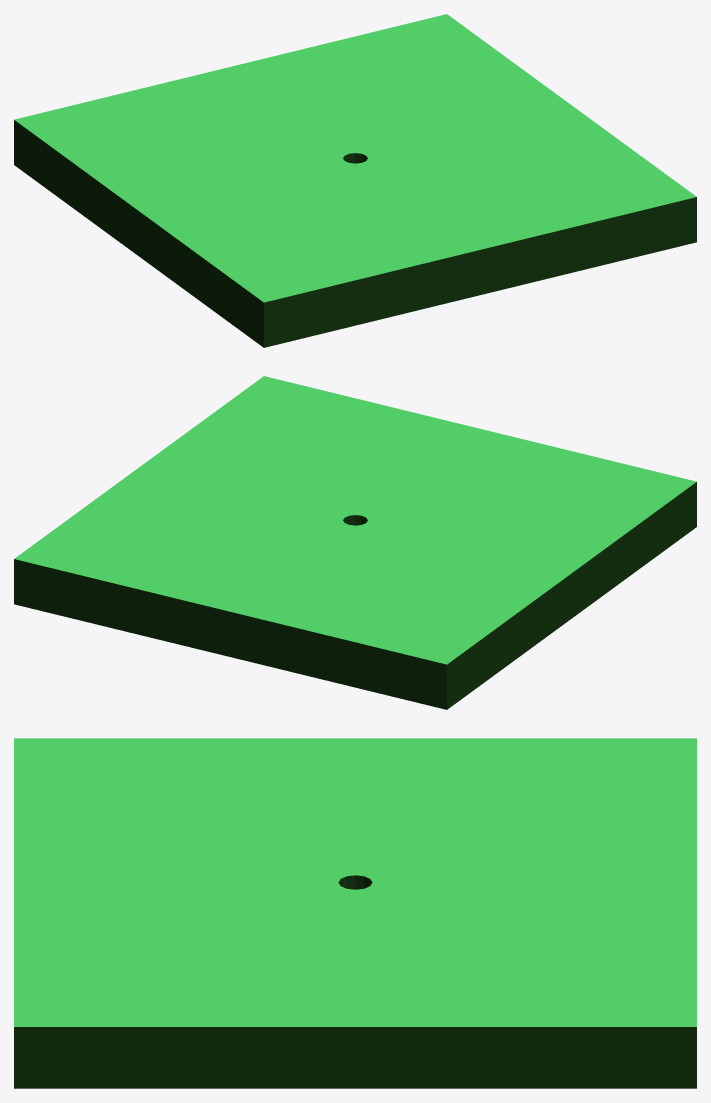
Rendered from MG Hole.fbx.
3 renders of one model, top to bottom at view 1: azimuth 30°, elevation 25°; view 2: azimuth 150°, elevation 25°; view 3: azimuth 270°, elevation 25°, orthographic. The views are drawn at different scales.
Parts seen in each view (by area): view 1: MG Hole; view 2: MG Hole; view 3: MG Hole.
Boxes of the visible parts, bbox=[...] form: MG Hole: bbox=[14, 14, 696, 347]; MG Hole: bbox=[14, 376, 696, 709]; MG Hole: bbox=[14, 738, 696, 1088].
Bounding box in the file's own units: 200 × 20 × 200.
